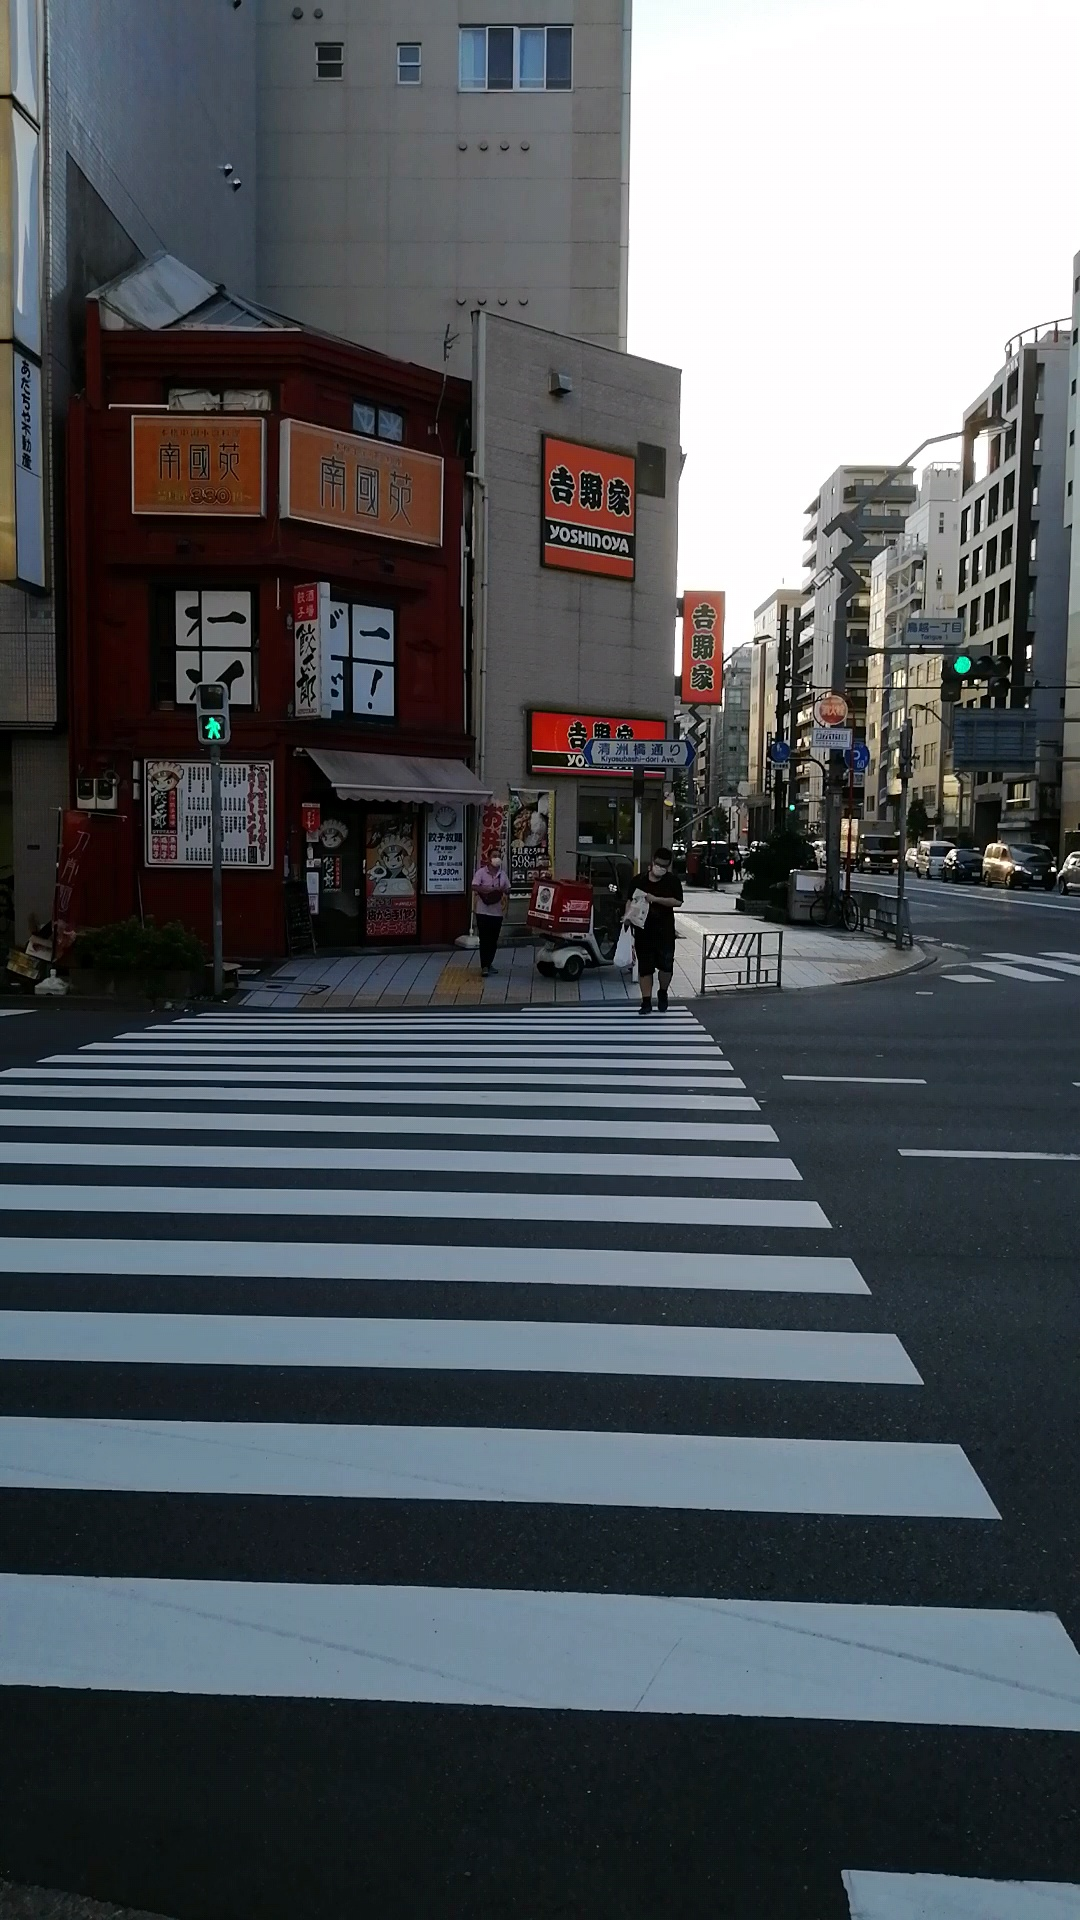green: (193, 682, 233, 745)
